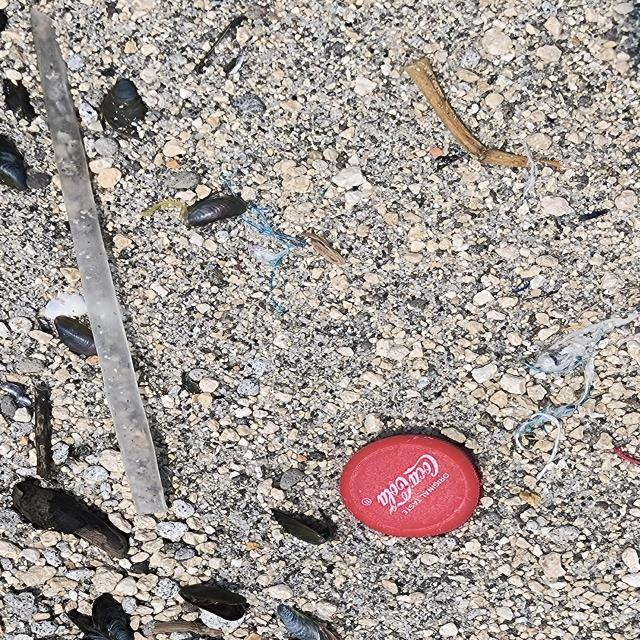plastic_waste: (25, 6, 177, 519), (339, 433, 484, 540)
